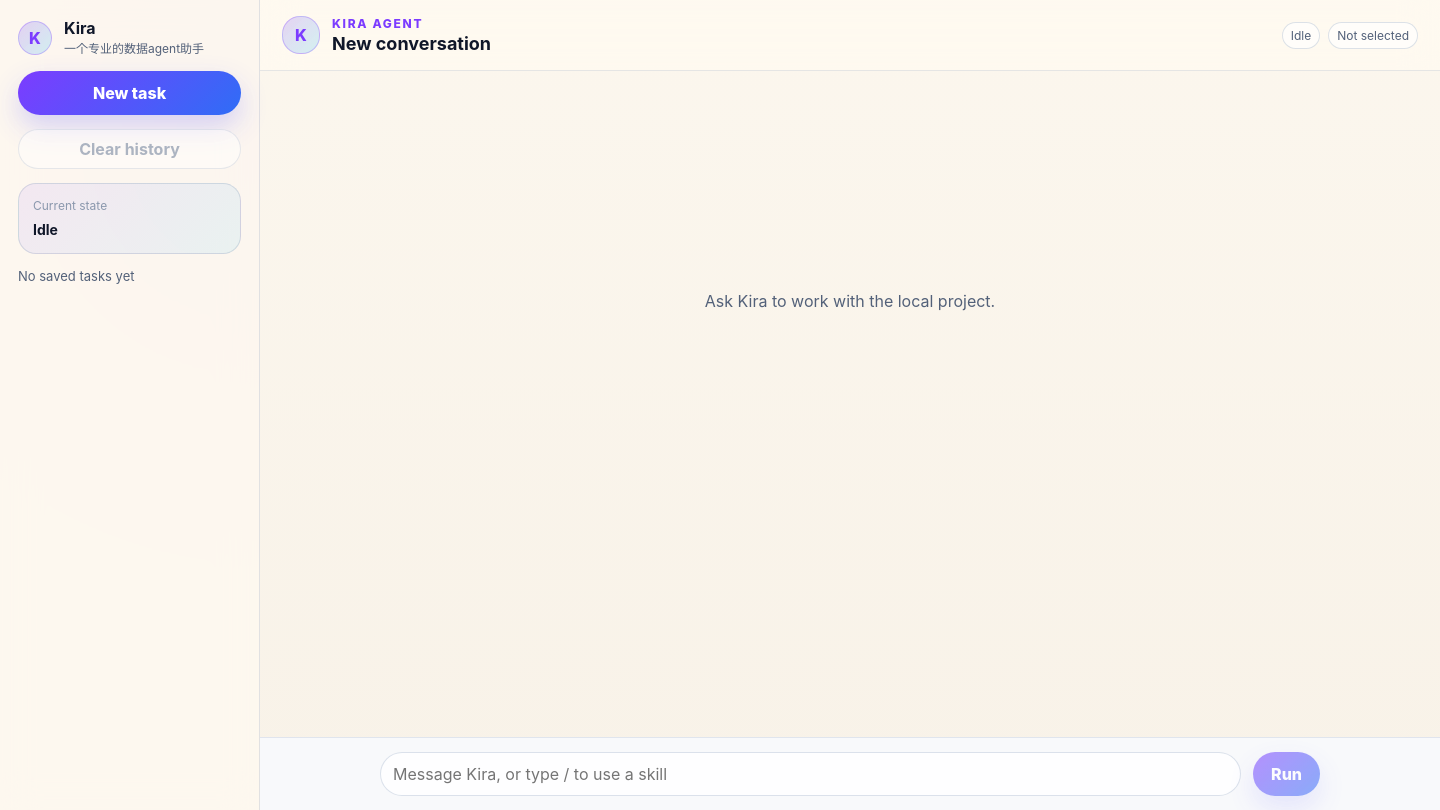
AgentWorkbench › groups thinking events into a collapsed 思考过程 block that toggles without merging into answers
The width and height of the screenshot is (1440, 810).
In the field named "Prompt": (811, 774) [380,752,1241,796], type "Explain the data"
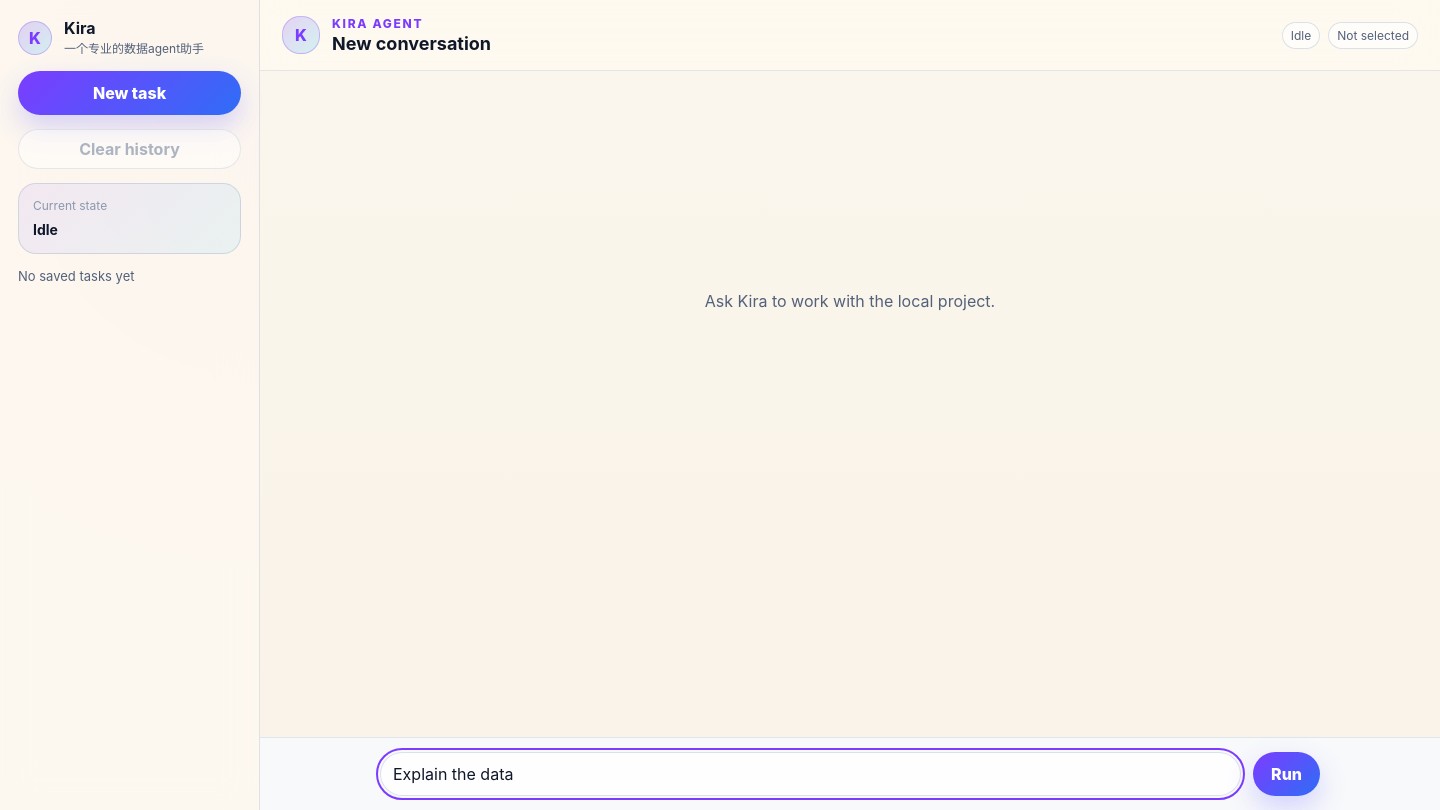
Click the button "Run": (1287, 774) [1253,752,1320,796]
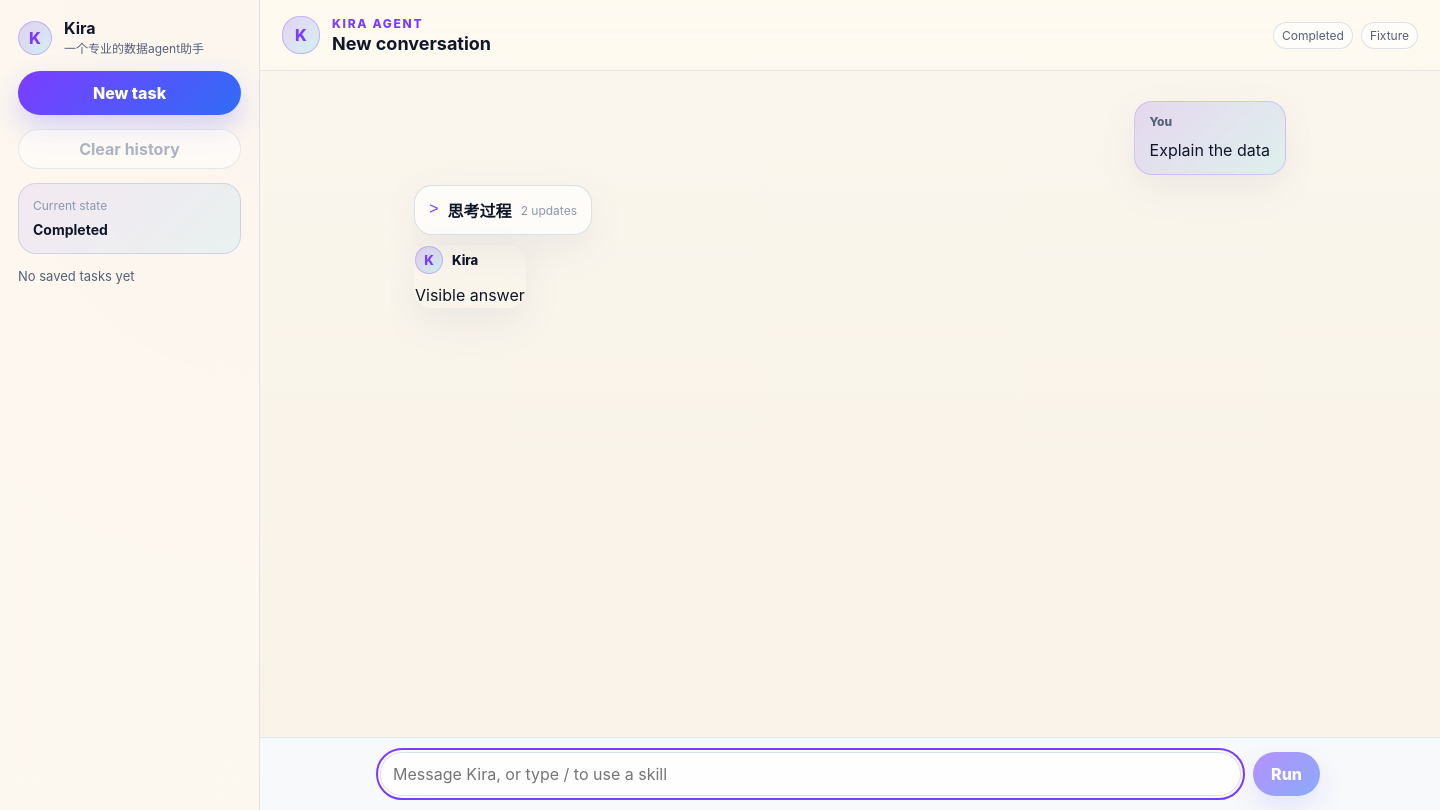
Expected: the text "Hidden planning text" is not shown
Expected: the element with test id "answer-row" shows "Visible answer", [415,285,525,305]
Expected: the element named "Assistant turn" is shown, [414,185,592,308]
Click the button "> 思考过程 2 updates": (503, 210) [415,186,591,234]
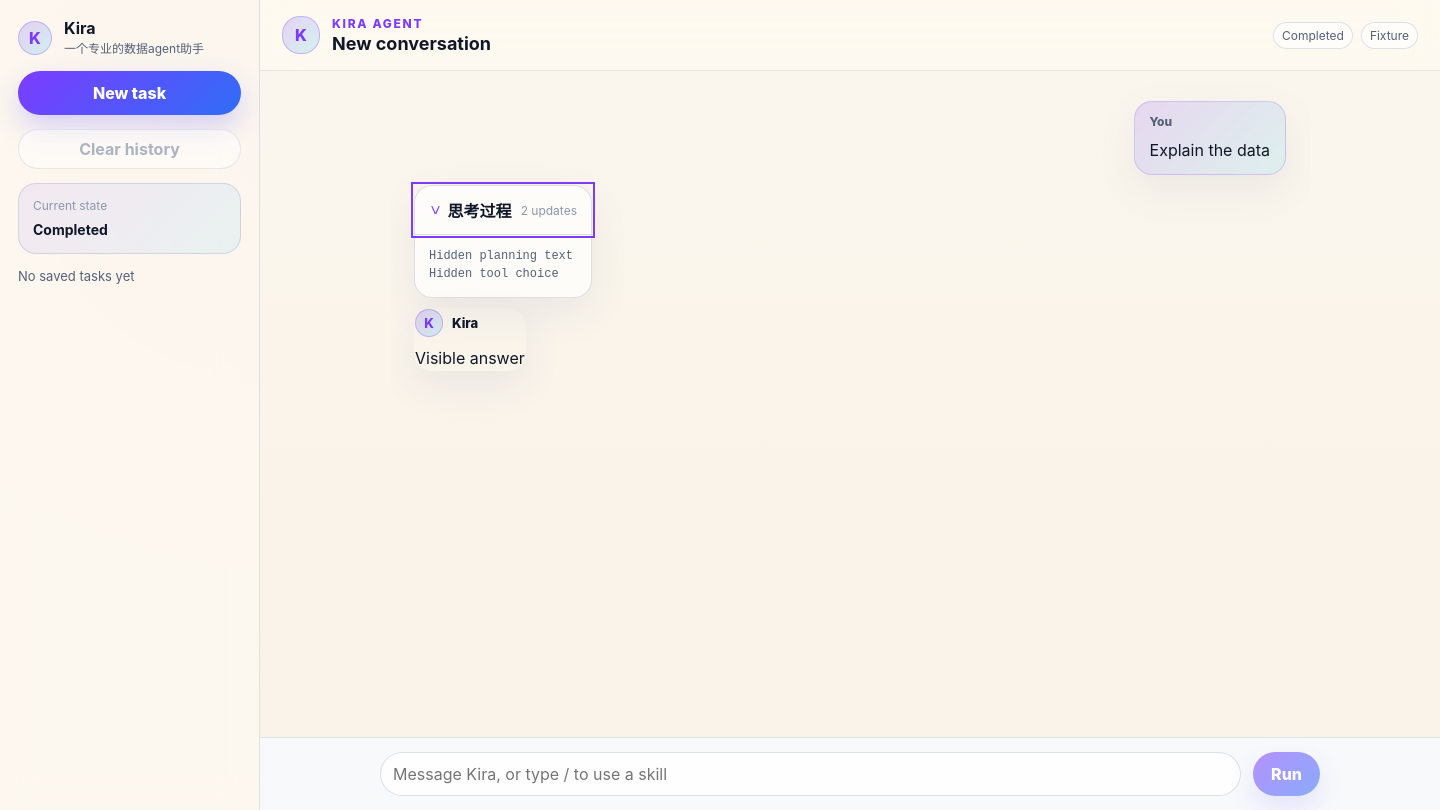
Expected: the button "> 思考过程 2 updates" is expanded
Expected: the text "Hidden planning text Hidden tool choice" is shown, [415,234,591,297]
Click the button "> 思考过程 2 updates": (503, 210) [415,186,591,234]
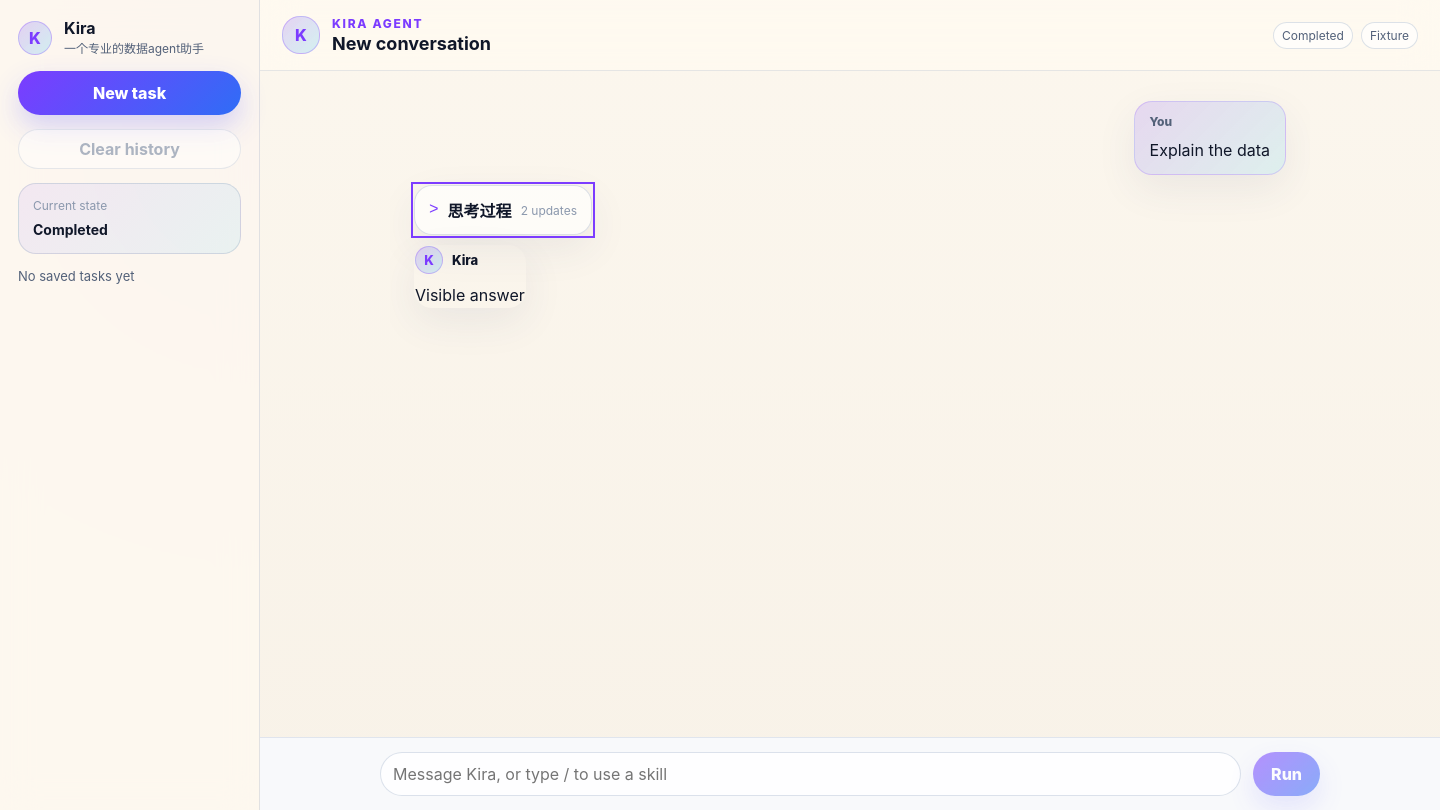
Expected: the button "> 思考过程 2 updates" is collapsed, [415,186,591,234]
Expected: the text "Hidden planning text" is gone
